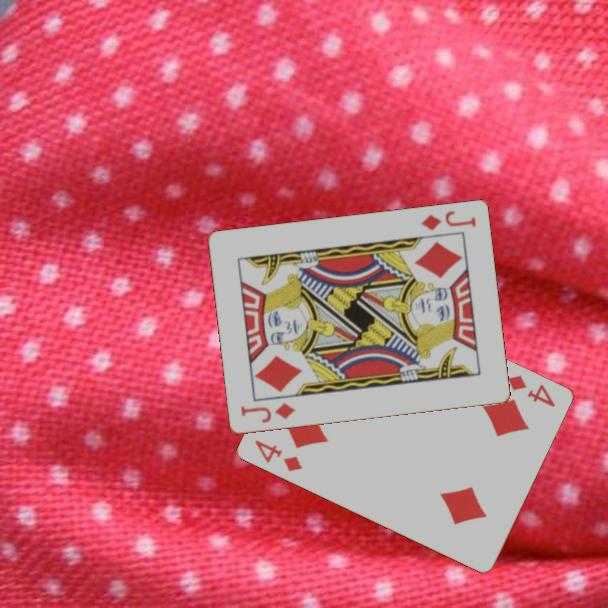d04: (504, 371, 559, 410), (252, 436, 306, 474)
d11: (417, 207, 479, 234), (237, 400, 298, 426)
